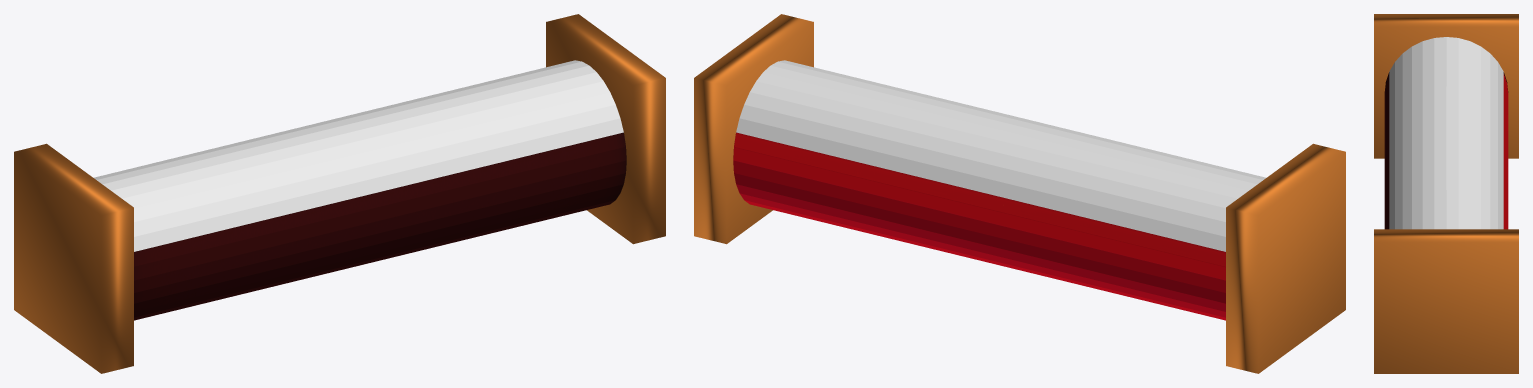
File: CanoModel.fbx
The picture shows the model from 3 angles, left to right: view 1: azimuth 30°, elevation 25°; view 2: azimuth 150°, elevation 25°; view 3: azimuth 270°, elevation 25°; orthographic projection. The views are drawn at different scales.
Parts seen in each view (by area): view 1: Cube.006, Cube.005, Cube.001; view 2: Cube.006, Cube.005, Cube.001; view 3: Cube.005, Cube.006, Cube.001.
Boxes of the visible parts, x1,y1,x2,y2 form: Cube.006: (93, 60, 623, 251); Cube.005: (14, 14, 665, 373); Cube.001: (134, 132, 626, 320); Cube.006: (736, 60, 1266, 251); Cube.005: (694, 14, 1345, 373); Cube.001: (733, 132, 1225, 320); Cube.005: (1374, 14, 1518, 373); Cube.006: (1389, 37, 1503, 229); Cube.001: (1384, 72, 1508, 229).
Size of the model in its own units: 528 by 141 by 141.
